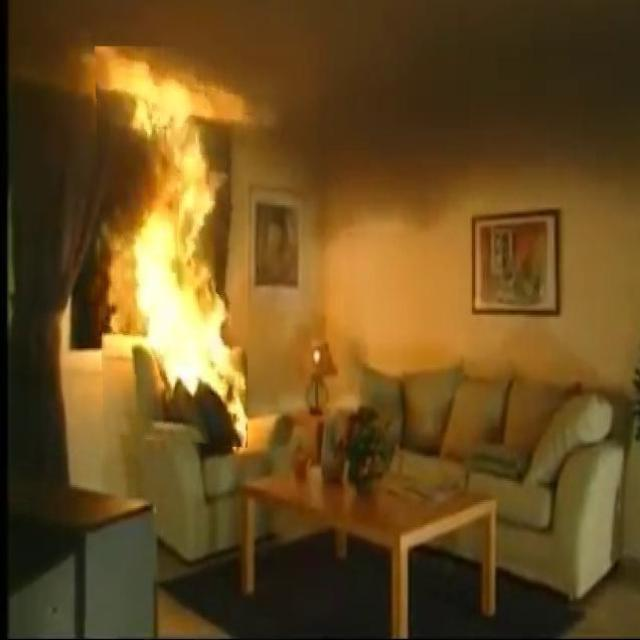smoke: (95, 46, 248, 449)
